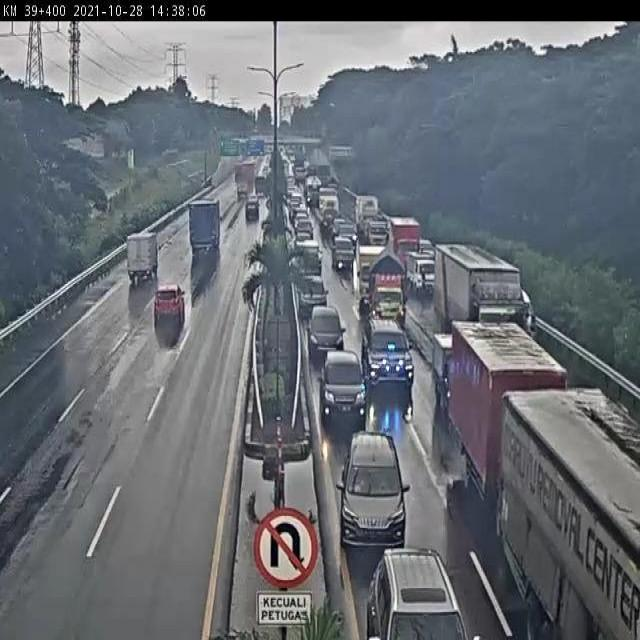big truck: (492, 385, 640, 640), (454, 321, 564, 483), (434, 242, 541, 350), (123, 224, 174, 288), (184, 203, 226, 265), (406, 250, 449, 298)
car: (360, 540, 479, 640), (342, 421, 405, 563), (360, 318, 415, 402), (318, 345, 366, 436), (310, 300, 346, 367), (150, 277, 188, 331), (298, 273, 329, 320), (299, 247, 324, 281), (332, 238, 353, 274), (245, 190, 263, 227)
small truck: (430, 336, 479, 408), (373, 258, 408, 322)
